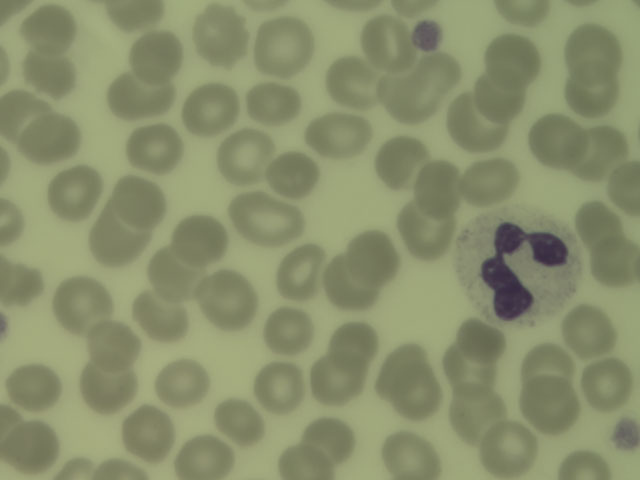Platelets: (412, 18, 441, 54), (614, 416, 640, 449)
RBC: (223, 193, 306, 245), (108, 66, 178, 115), (255, 19, 317, 74), (304, 108, 371, 158), (307, 351, 366, 407), (378, 134, 432, 189), (303, 409, 357, 464), (574, 124, 628, 179), (534, 112, 588, 167), (450, 93, 504, 148), (474, 69, 528, 124), (489, 30, 543, 85), (563, 61, 617, 116), (565, 23, 619, 78), (266, 146, 320, 201), (220, 128, 274, 183), (197, 6, 251, 61), (182, 83, 236, 138), (125, 121, 179, 176), (127, 30, 181, 85), (133, 290, 187, 345), (145, 243, 199, 298), (173, 210, 227, 265), (202, 271, 256, 326), (275, 244, 329, 299), (259, 305, 313, 360), (252, 359, 306, 414), (212, 394, 266, 449), (121, 403, 175, 458), (156, 358, 210, 413), (81, 357, 135, 412), (85, 317, 139, 372), (7, 421, 61, 476), (8, 360, 62, 415), (57, 275, 111, 330), (87, 209, 141, 264), (111, 172, 165, 227), (46, 165, 100, 220), (22, 112, 76, 167), (23, 44, 77, 99), (21, 2, 75, 57), (325, 51, 379, 106), (521, 373, 575, 428), (569, 194, 623, 249), (586, 235, 640, 290), (563, 303, 617, 358), (581, 358, 635, 413), (453, 388, 507, 443), (442, 342, 496, 397), (381, 425, 435, 480), (390, 363, 444, 418), (374, 340, 428, 395), (348, 227, 402, 282), (324, 257, 378, 312), (326, 316, 380, 371), (400, 202, 454, 257), (464, 152, 518, 207), (374, 66, 428, 121), (360, 12, 414, 67), (480, 425, 534, 479), (1, 86, 54, 141), (412, 162, 468, 213), (177, 432, 234, 480), (246, 79, 302, 124), (1, 253, 46, 308), (521, 338, 568, 386), (552, 448, 612, 480), (608, 157, 640, 216), (279, 444, 332, 479), (421, 52, 464, 94), (1, 190, 30, 251), (462, 318, 505, 359), (493, 1, 552, 30), (109, 1, 158, 34), (94, 453, 144, 479), (1, 405, 24, 452)
WBC: (463, 209, 577, 325)
